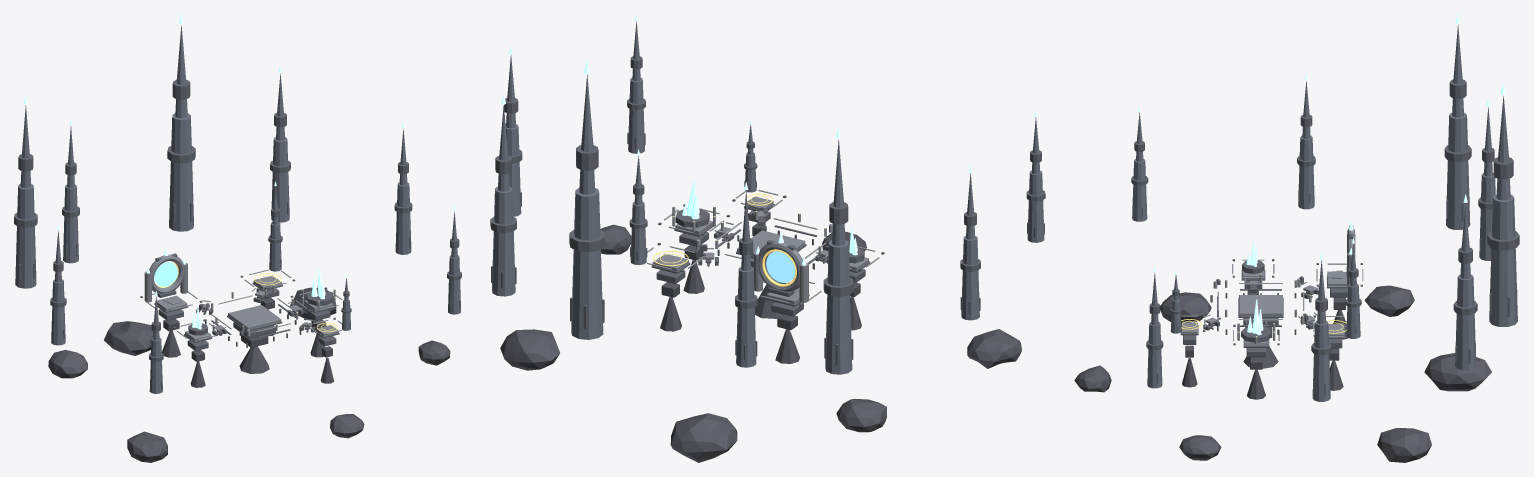
File: aether-citadel.glb
The picture shows the model from 3 angles, left to right: view 1: azimuth 30°, elevation 25°; view 2: azimuth 150°, elevation 25°; view 3: azimuth 270°, elevation 25°; orthographic projection. The views are drawn at different scales.
Visible parts, largest first — view 1: FarTower2Shaft, FarTower0Shaft, Cliff5, FarTower3Shaft, Cliff3, FarTower1Shaft, FarTower4Shaft, Cliff0, CentralDeck, FarTower5Shaft, Cliff4, FarTower6Shaft (+6 smaller); view 2: FarTower2Shaft, FarTower0Shaft, Cliff5, FarTower3Shaft, Cliff1, FarTower1Shaft, Cliff3, Cliff0, FarTower5Shaft, FarTower6Shaft, FarTower7Shaft, PortalArchOuter (+6 smaller); view 3: FarTower2Shaft, FarTower0Shaft, Cliff5, FarTower3Shaft, Cliff1, FarTower4Shaft, Cliff0, Cliff3, FarTower5Shaft, FarTower1Shaft, CentralDeck, Cliff2 (+4 smaller).
Part boxes in pixels (left/top/right/bottom): FarTower2Shaft: left=169, top=113, right=193, bottom=231; FarTower0Shaft: left=15, top=183, right=36, bottom=288; Cliff5: left=104, top=321, right=153, bottom=355; FarTower3Shaft: left=271, top=137, right=289, bottom=222; Cliff3: left=127, top=431, right=167, bottom=462; FarTower1Shaft: left=63, top=184, right=78, bottom=263; FarTower4Shaft: left=395, top=182, right=411, bottom=254; Cliff0: left=48, top=349, right=87, bottom=378; CentralDeck: left=228, top=305, right=281, bottom=329; FarTower5Shaft: left=51, top=279, right=65, bottom=345; Cliff4: left=330, top=414, right=364, bottom=438; FarTower6Shaft: left=448, top=255, right=460, bottom=314; FarTower2Shaft: left=571, top=188, right=603, bottom=339; FarTower0Shaft: left=825, top=240, right=852, bottom=374; Cliff5: left=670, top=413, right=737, bottom=462; FarTower3Shaft: left=492, top=186, right=515, bottom=296; Cliff1: left=500, top=329, right=559, bottom=370; FarTower1Shaft: left=736, top=267, right=756, bottom=367; Cliff3: left=967, top=329, right=1021, bottom=368; Cliff0: left=836, top=398, right=886, bottom=432; FarTower5Shaft: left=961, top=236, right=979, bottom=320; FarTower6Shaft: left=628, top=78, right=644, bottom=153; FarTower7Shaft: left=1027, top=170, right=1044, bottom=242; PortalArchOuter: left=758, top=241, right=802, bottom=291; FarTower2Shaft: left=1489, top=194, right=1517, bottom=326; FarTower0Shaft: left=1446, top=112, right=1470, bottom=229; Cliff5: left=1424, top=353, right=1491, bottom=391; FarTower3Shaft: left=1455, top=274, right=1476, bottom=370; Cliff1: left=1377, top=428, right=1431, bottom=462; FarTower4Shaft: left=1312, top=320, right=1330, bottom=401; Cliff0: left=1364, top=285, right=1414, bottom=316; Cliff3: left=1160, top=292, right=1211, bottom=322; FarTower5Shaft: left=1298, top=135, right=1314, bottom=209; FarTower1Shaft: left=1479, top=173, right=1495, bottom=260; CentralDeck: left=1239, top=295, right=1282, bottom=316; Cliff2: left=1179, top=435, right=1221, bottom=460.
Size of the model in its own units: 62.45 by 50.03 by 58.76.
